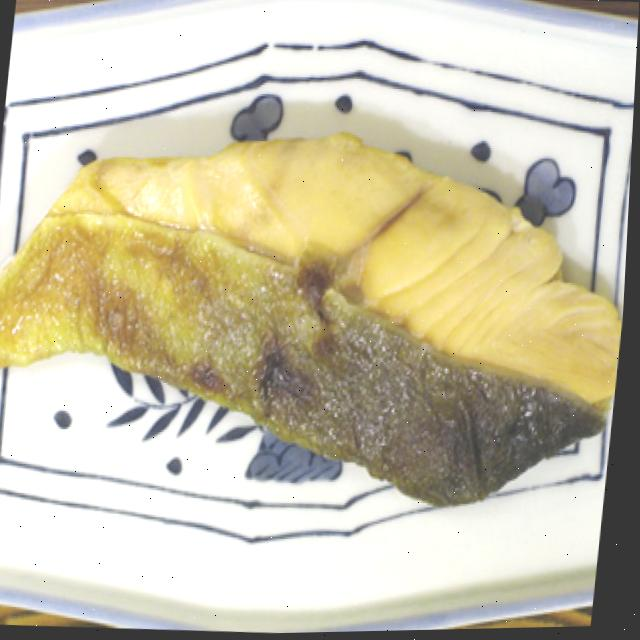熟制海鲜: (0, 116, 635, 558)
